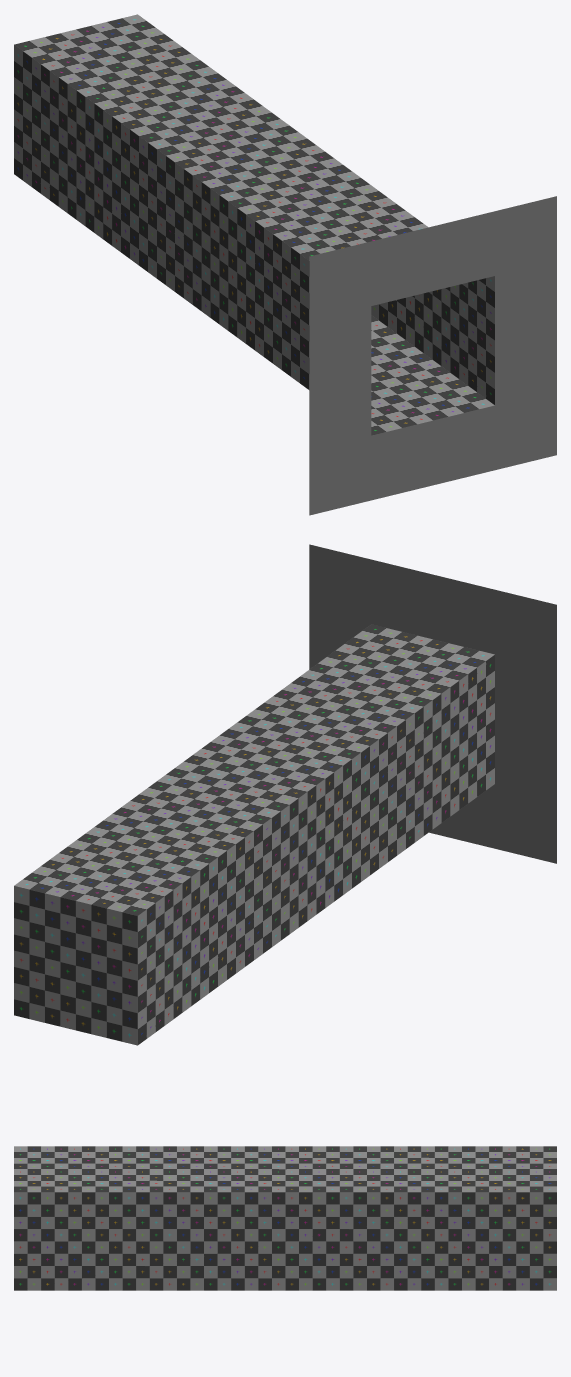
The model's file is hall.obj.
3 renders of one model, top to bottom at view 1: azimuth 30°, elevation 25°; view 2: azimuth 150°, elevation 25°; view 3: azimuth 270°, elevation 25°, orthographic. The views are drawn at different scales.
Visible parts, largest first — view 1: Cube; view 2: Cube; view 3: Cube.
Part boxes in pixels (box(x1,y1,x2,y2)): Cube: box(14, 14, 556, 515); Cube: box(14, 544, 556, 1045); Cube: box(14, 1146, 556, 1290).
Size of the model in its own units: 4 by 4 by 10.
